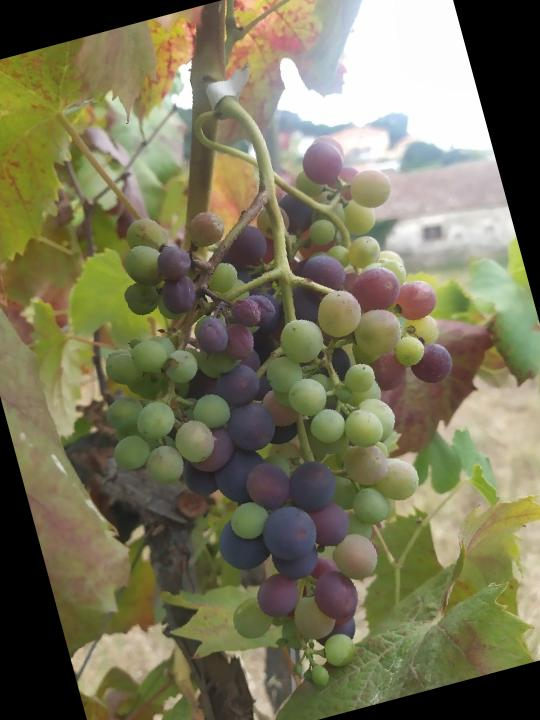grape: (41, 113, 530, 720)
